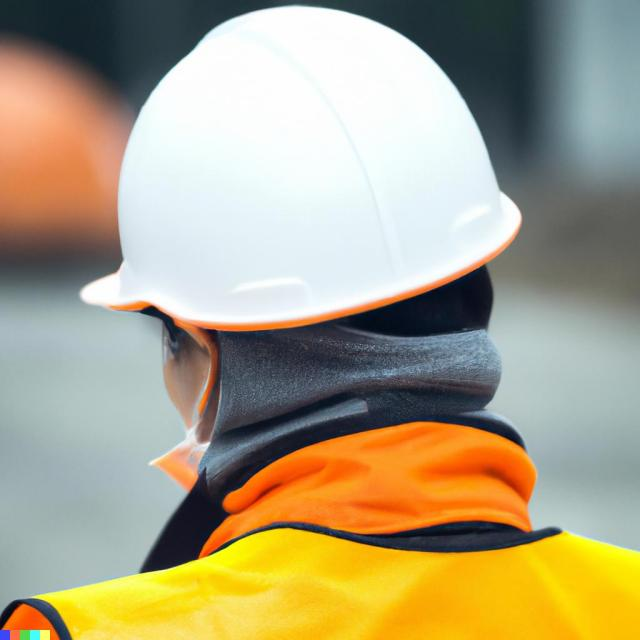Reflective-Jacket: (10, 425, 640, 638)
Safety-Helmet: (83, 1, 526, 341)
